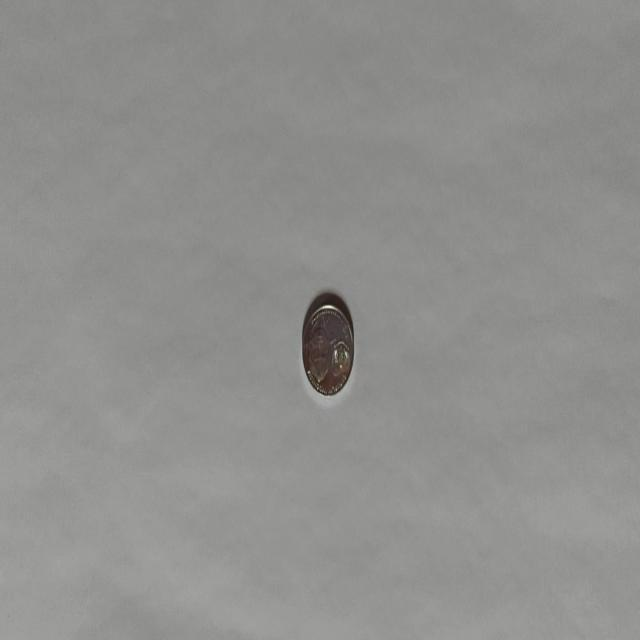dua ratus rupiah: (301, 295, 355, 397)
